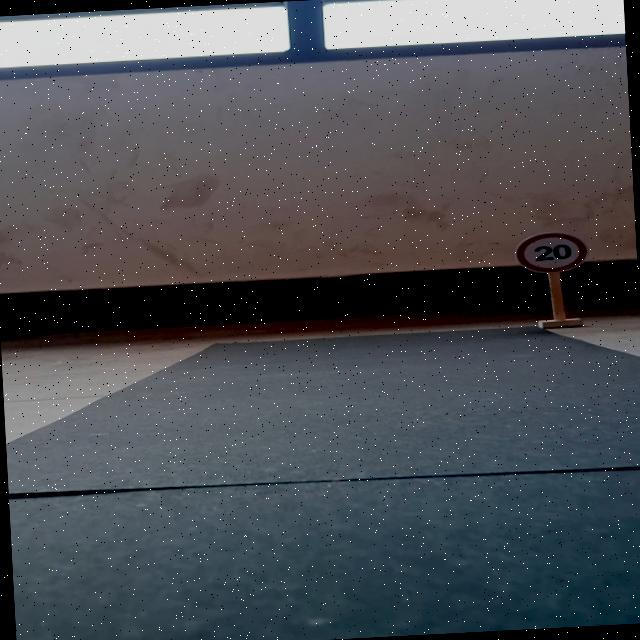Speed20: (510, 230, 592, 278)
